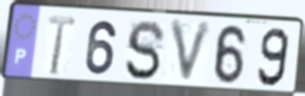6: (212, 23, 249, 88), (84, 18, 120, 78)
9: (257, 27, 292, 89)
S: (123, 18, 168, 83)
T: (46, 13, 78, 78)
V: (168, 18, 215, 87)
